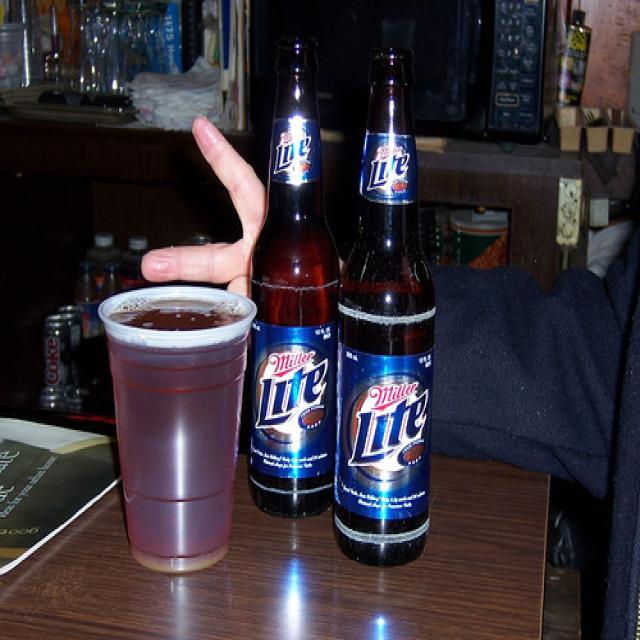bottle: (332, 44, 438, 571), (244, 32, 342, 520), (75, 257, 101, 388), (99, 262, 124, 389), (84, 228, 120, 296), (119, 232, 151, 295)
